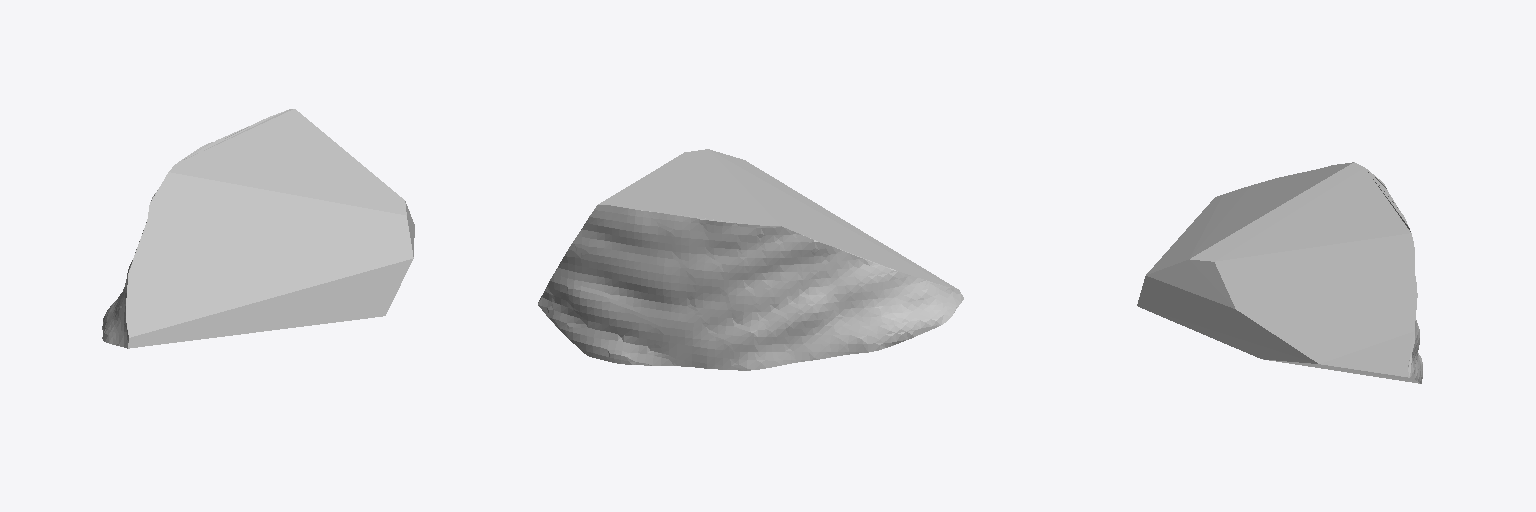
File: low_cell_052.obj
3 views of the same model, side by side, from view 1: azimuth 30°, elevation 25°; view 2: azimuth 150°, elevation 25°; view 3: azimuth 270°, elevation 25° (orthographic).
Parts seen in each view (by area): view 1: low_cell.052_low_cell.051; view 2: low_cell.052_low_cell.051; view 3: low_cell.052_low_cell.051.
Part boxes in pixels (bbox=[...]): low_cell.052_low_cell.051: bbox=[102, 109, 414, 348]; low_cell.052_low_cell.051: bbox=[538, 149, 963, 370]; low_cell.052_low_cell.051: bbox=[1137, 162, 1422, 383].
Bounding box in the file's own units: 0.9463 × 0.4105 × 0.7091.